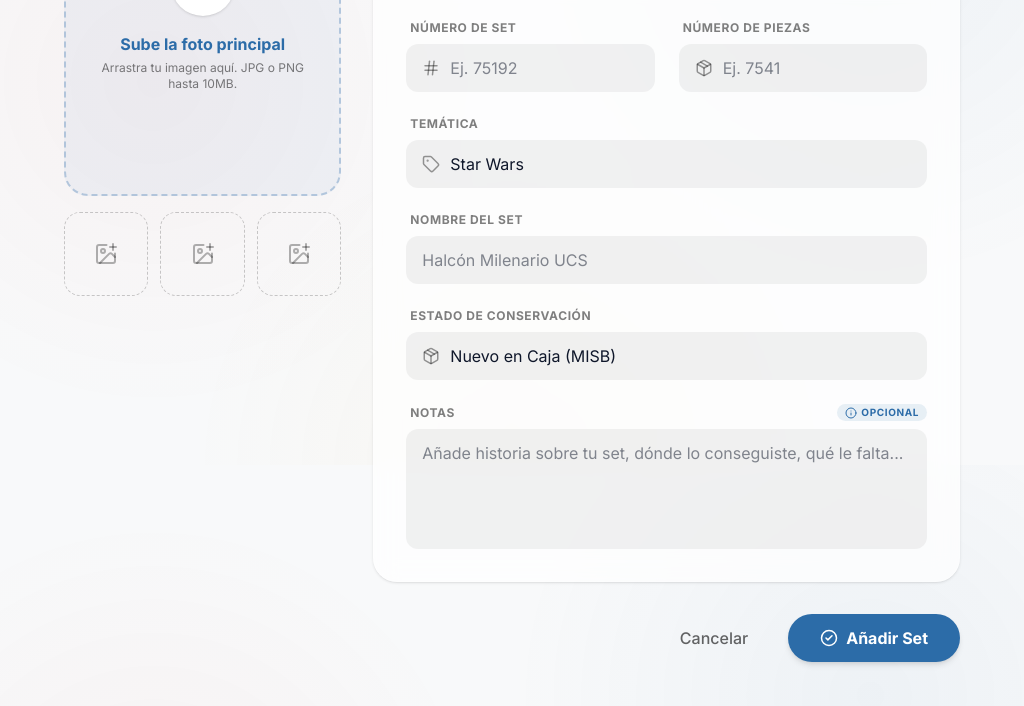
Test: MesaTrabajoClient › debe mostrar error si se intenta enviar sin nombre de set
(page scrolled)
What coordinates should you click on to do the following:
click the button "Añadir Set"
I would click on:
 (874, 638)
Its box is [788, 614, 960, 662].
(page scrolled)
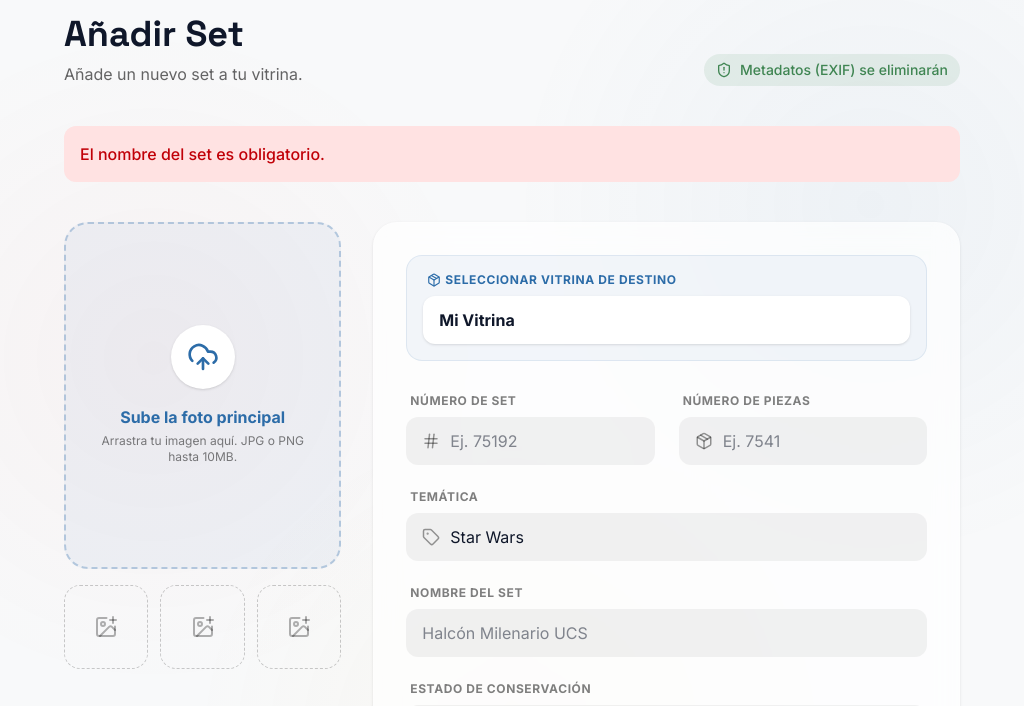
Expected: the text "El nombre del set es obligatorio." is shown, [64, 126, 960, 182]
